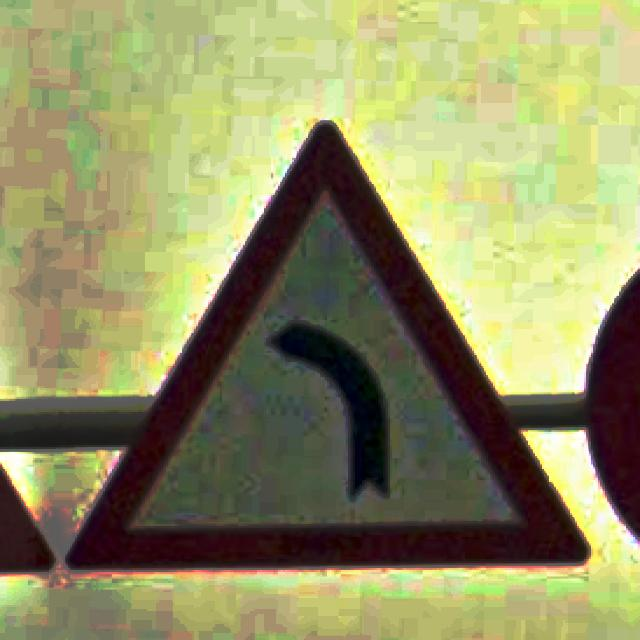leftbend: (68, 125, 589, 574)
